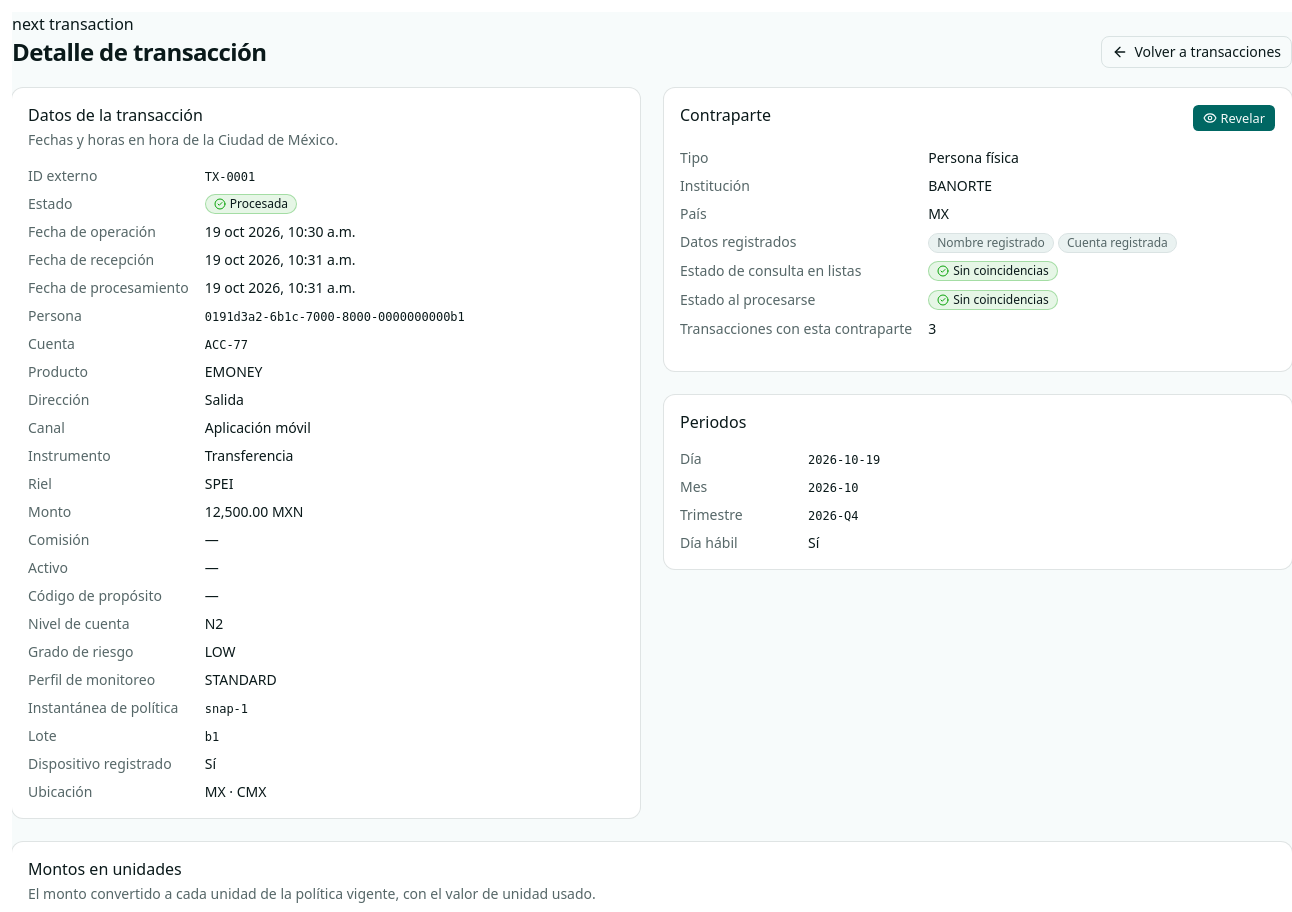
Test case: TransactionPage › drops the reveal when another transaction opens
This screenshot has width=1292, height=912.
Check: the text "TX-0001" is shown, box [205,170,255,184]
Click the button "Revelar" at (1234, 118), box [1192,104,1276,132]
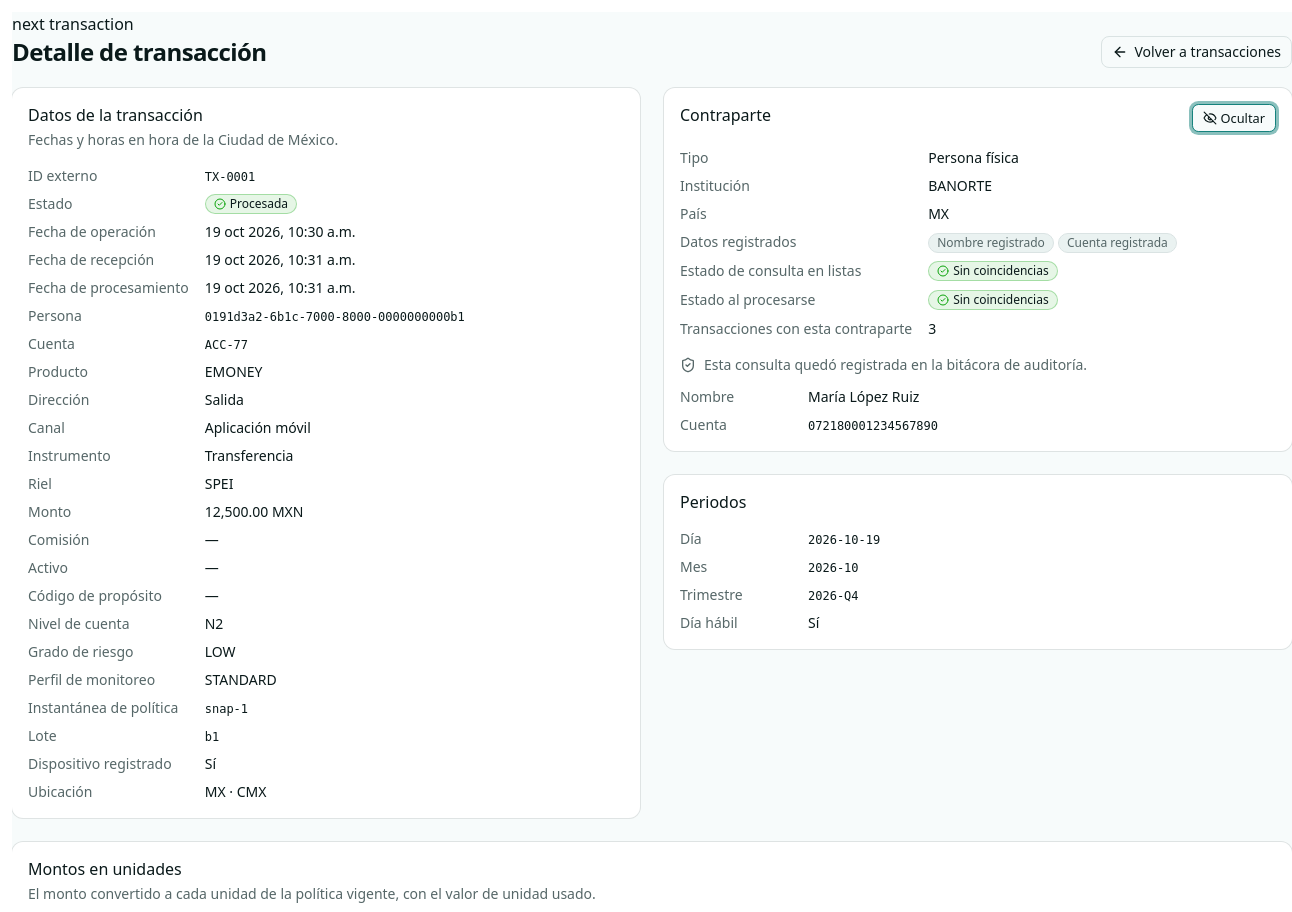
Check: the text "María López Ruiz" is shown, box [808,387,919,406]
Click the link "next transaction" at (73, 24), box [12,13,134,35]
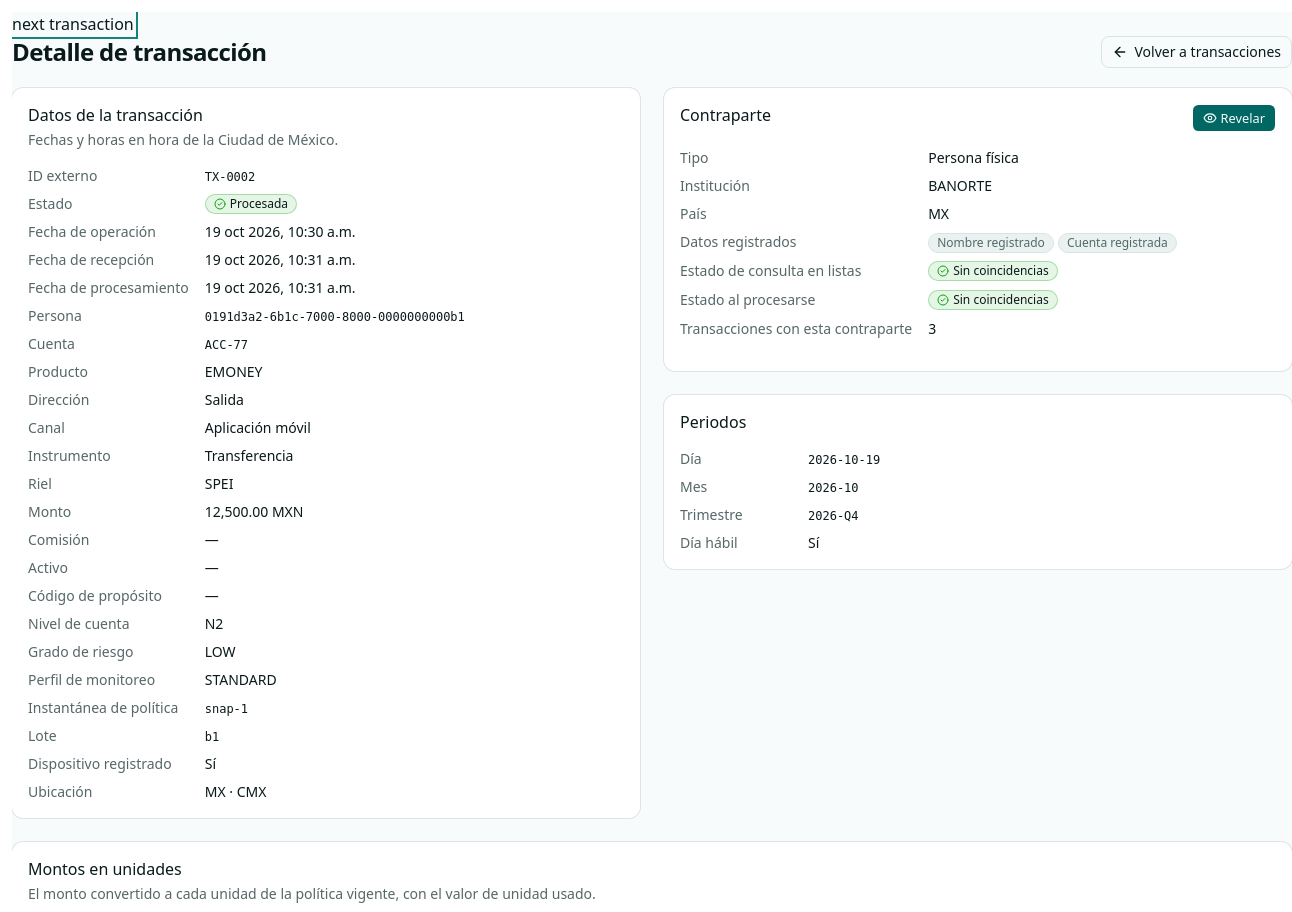
Check: the text "TX-0002" is shown, box [205,170,255,184]
Check: the text "María López Ruiz" is gone
